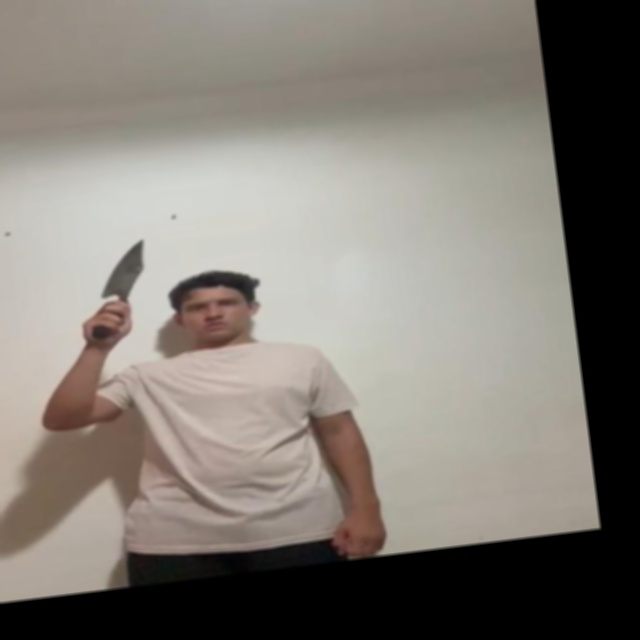Sharp-Object: (98, 235, 153, 296)
